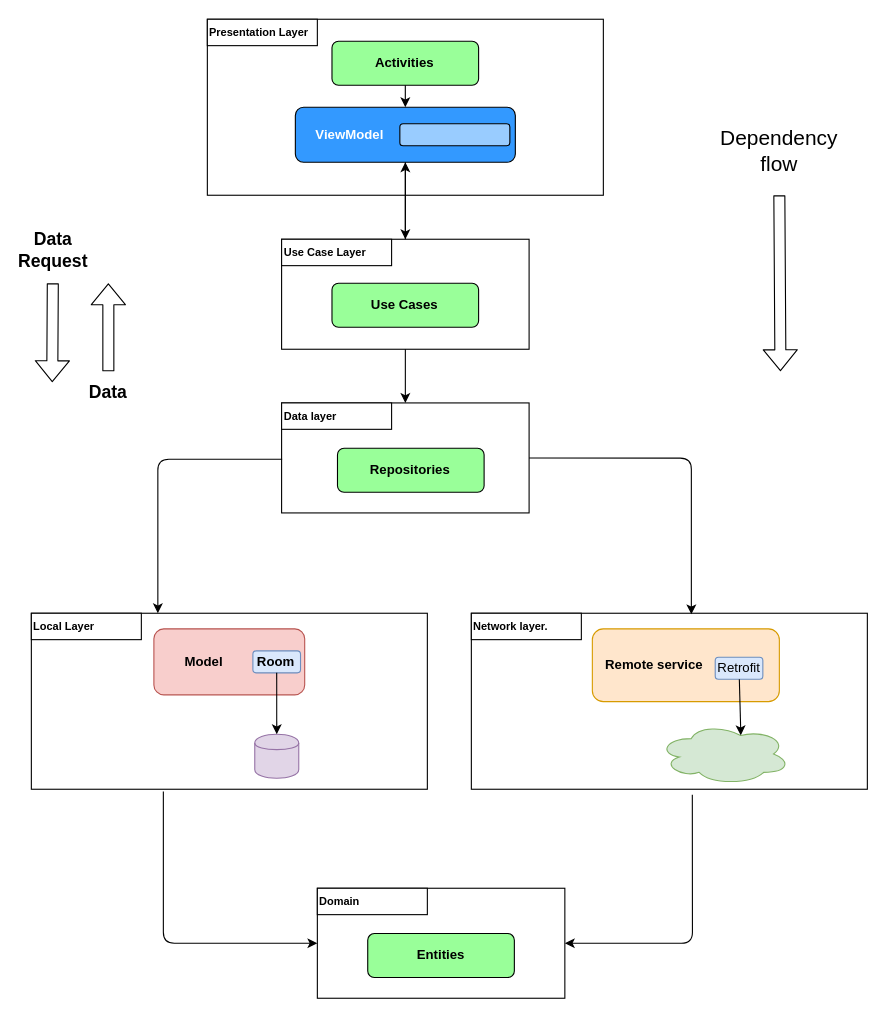
This 887x1018 diagram has some shape labels left out. Each missing label, with the centre of its shape:
Flicker API: the point at 723,753
LiveData: the point at 454,134
SQLITE: the point at 276,755
